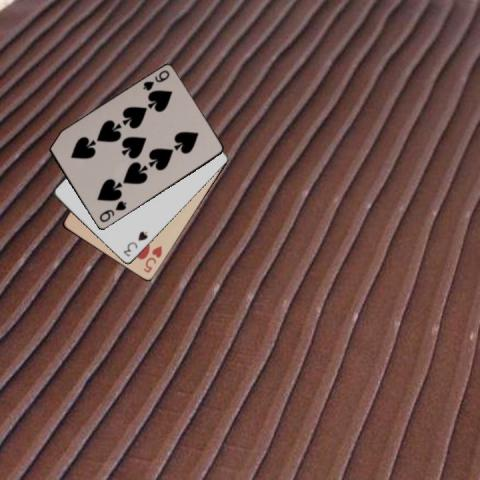3s: (121, 228, 149, 258)
5h: (140, 243, 163, 274)
9s: (96, 198, 128, 224), (140, 67, 171, 93)
